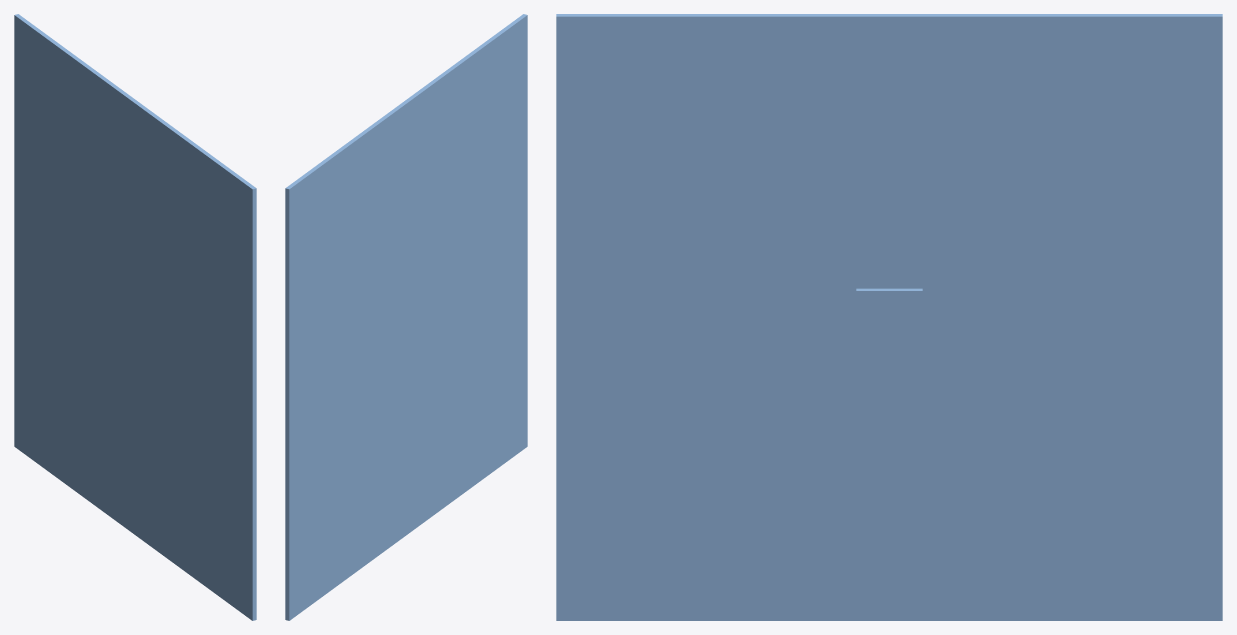
File: Visible_rectangle.glb
3 renders of one model, left to right at view 1: azimuth 30°, elevation 25°; view 2: azimuth 150°, elevation 25°; view 3: azimuth 270°, elevation 25°, orthographic. The views are drawn at different scales.
Parts seen in each view (by area): view 1: Visible_rectangle_big; view 2: Visible_rectangle_big; view 3: Visible_rectangle_big, Visible_rectangle.
Part boxes in pixels (bbox=[...]): Visible_rectangle_big: bbox=[14, 14, 256, 620]; Visible_rectangle_big: bbox=[285, 14, 527, 620]; Visible_rectangle_big: bbox=[556, 14, 1222, 620]; Visible_rectangle: bbox=[856, 288, 922, 351].
Size of the model in its own units: 0.0556 by 3 by 3.
